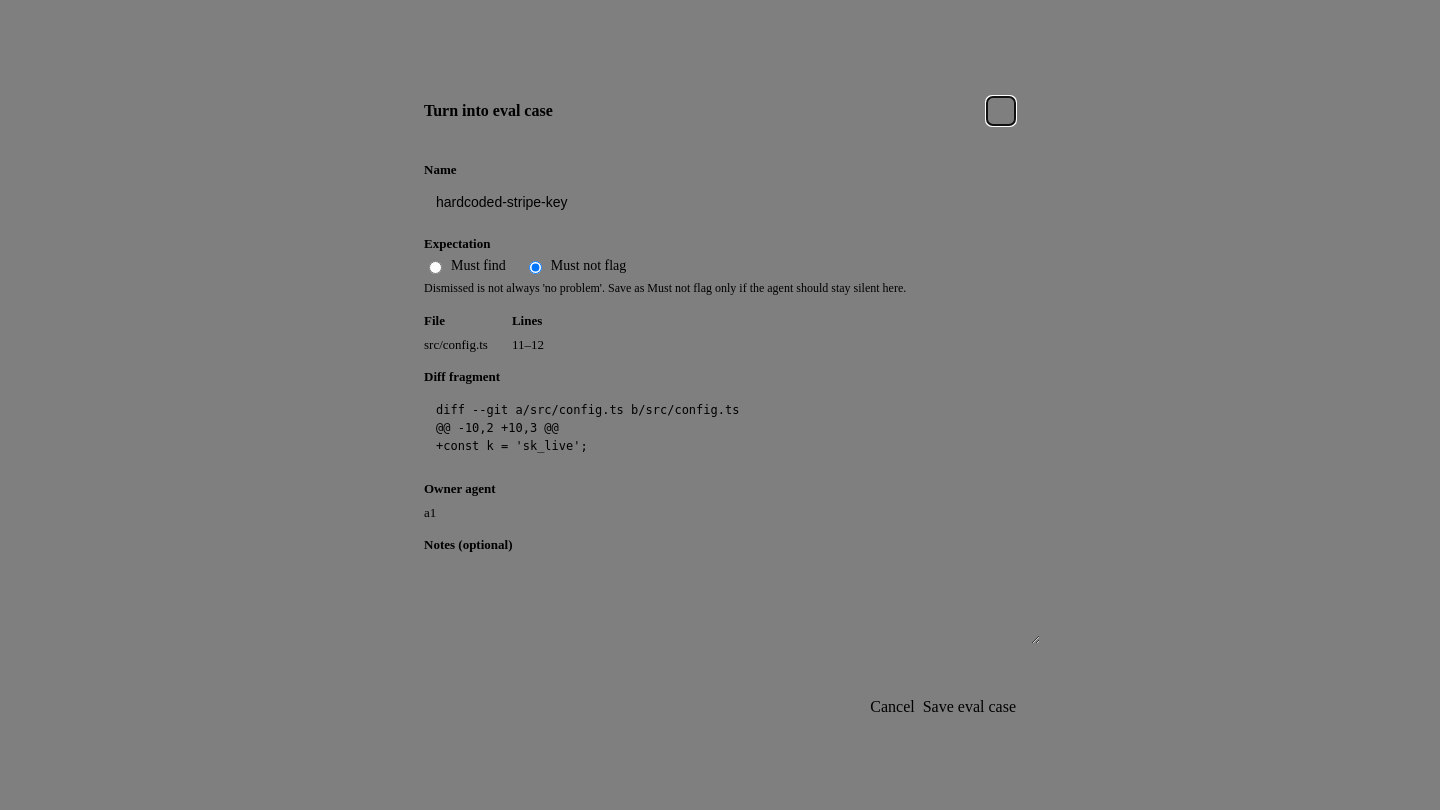
Test case: EvalCaseDialog › shows the dismissed hint only while Must not flag is chosen
Check: the text "Dismissed is not always 'no problem'. Save as Must not flag only if the agent should stay silent here." is shown, box [424,281,906,295]
Click the radio button labelled "Must find". click: click(436, 267)
box: [429,261,442,274]
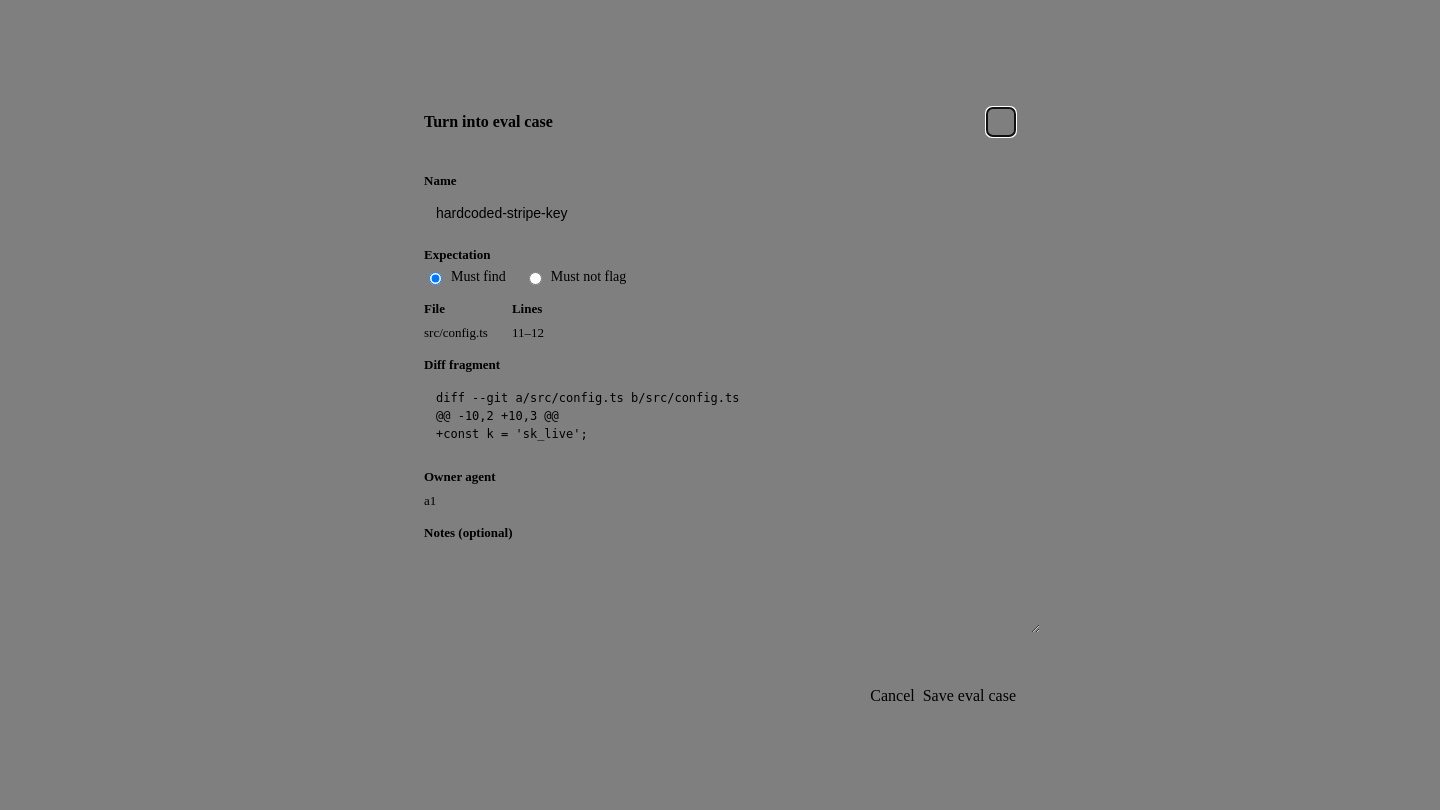
Check: the text "Dismissed is not always 'no problem'. Save as Must not flag only if the agent should stay silent here." is gone
